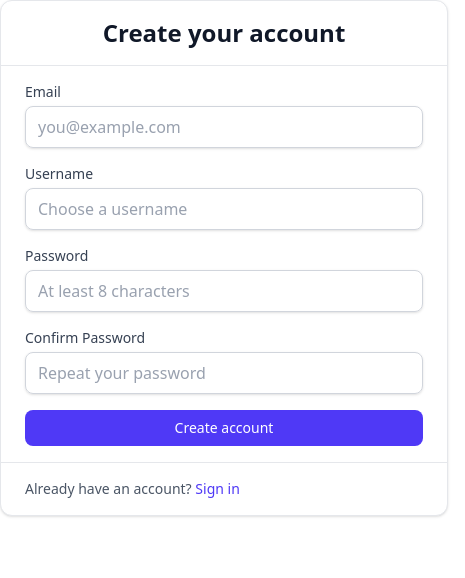
Scenario: RegisterPage › validates invalid username characters
In the field labelled "Email": (224, 127) [25,106,423,148], type "test@example.com"
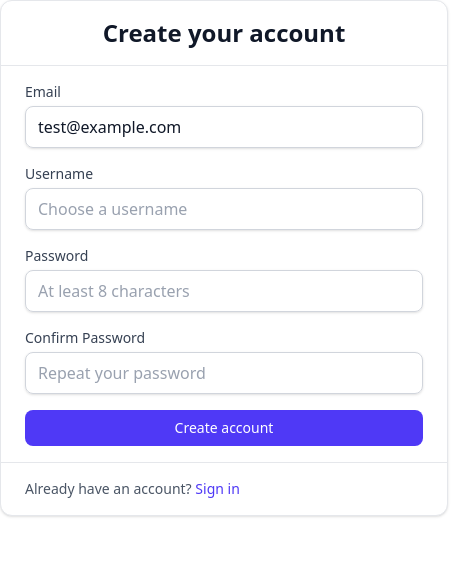
In the field labelled "Username": (224, 209) [25,188,423,230], type "bad user!"
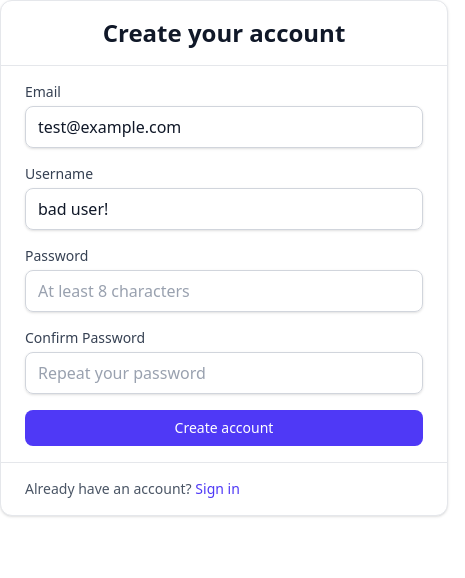
In the password field labelled "Password": (224, 291) [25,270,423,312], type "password123"
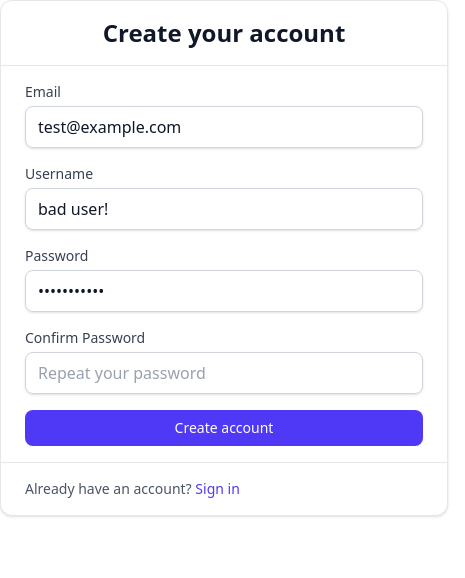
In the password field labelled "Confirm Password": (224, 373) [25,352,423,394], type "password123"
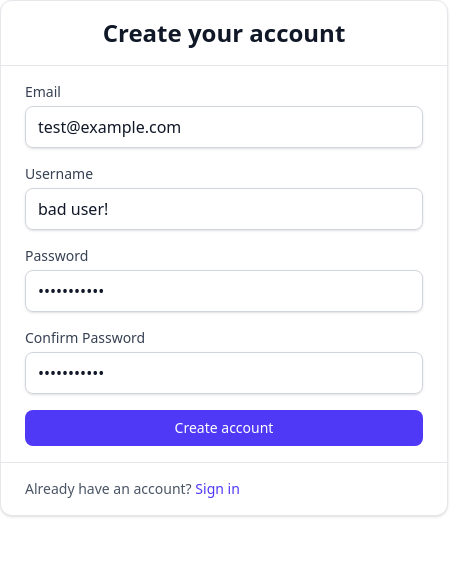
Click the button "Create account": (224, 428) [25,410,423,446]
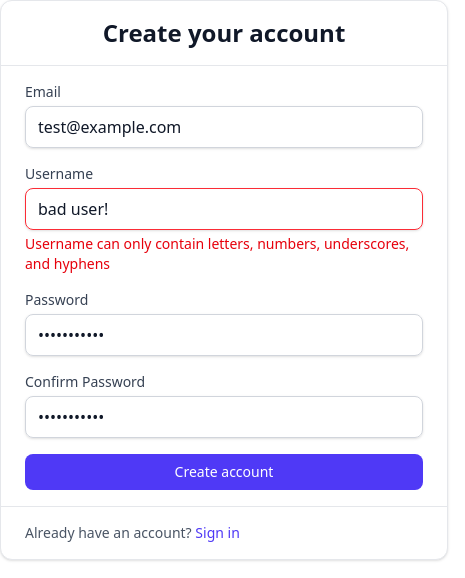
Check: the text "Username can only contain letters, numbers, underscores, and hyphens" is shown, box [25,234,423,274]
